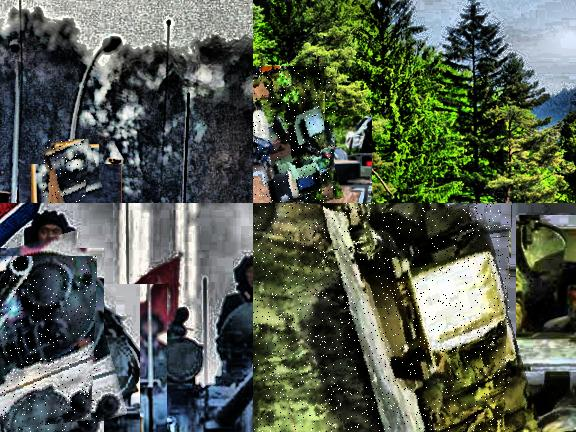tanks: (254, 204, 511, 432), (136, 304, 254, 432), (1, 257, 98, 384), (254, 87, 336, 204), (44, 140, 86, 204)
